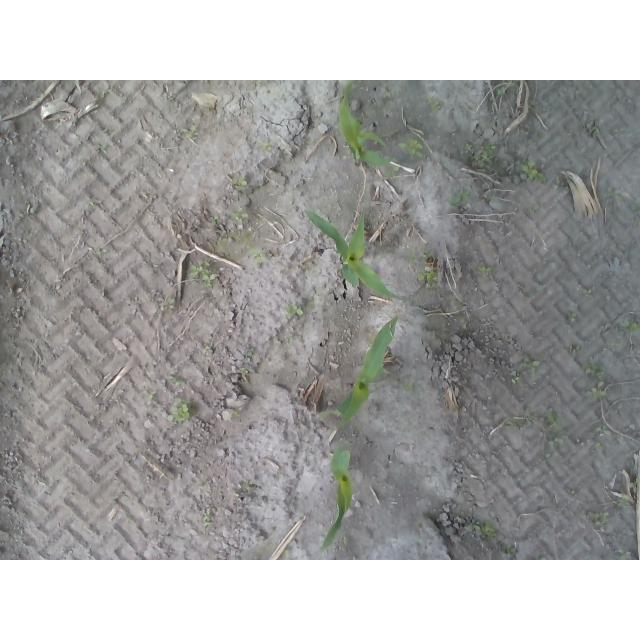Maize: (297, 205, 416, 304), (338, 315, 400, 422), (332, 80, 398, 169), (318, 450, 354, 553)
Weeds: (543, 412, 565, 449), (464, 142, 497, 163), (399, 135, 426, 157), (522, 160, 545, 181), (169, 402, 192, 422), (190, 264, 211, 285), (604, 185, 624, 203), (447, 190, 469, 204), (590, 379, 606, 398), (418, 269, 439, 283), (247, 247, 266, 262), (584, 362, 605, 375), (427, 96, 442, 113), (522, 358, 541, 371), (624, 320, 640, 335), (287, 303, 304, 317), (229, 178, 247, 190), (479, 524, 497, 536), (161, 296, 176, 310), (593, 513, 609, 526), (212, 239, 226, 253), (183, 127, 200, 138), (202, 513, 215, 527), (229, 211, 247, 221), (503, 544, 518, 555), (594, 423, 610, 433), (96, 246, 109, 258), (240, 232, 252, 245), (478, 264, 494, 273), (510, 376, 524, 386), (468, 519, 480, 529), (174, 376, 186, 385), (211, 215, 221, 225), (239, 367, 251, 374)
